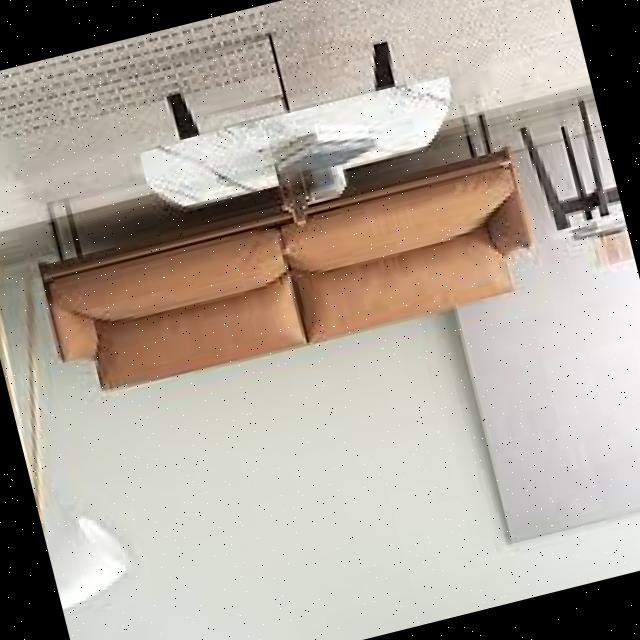Sofa: (11, 117, 566, 436)
